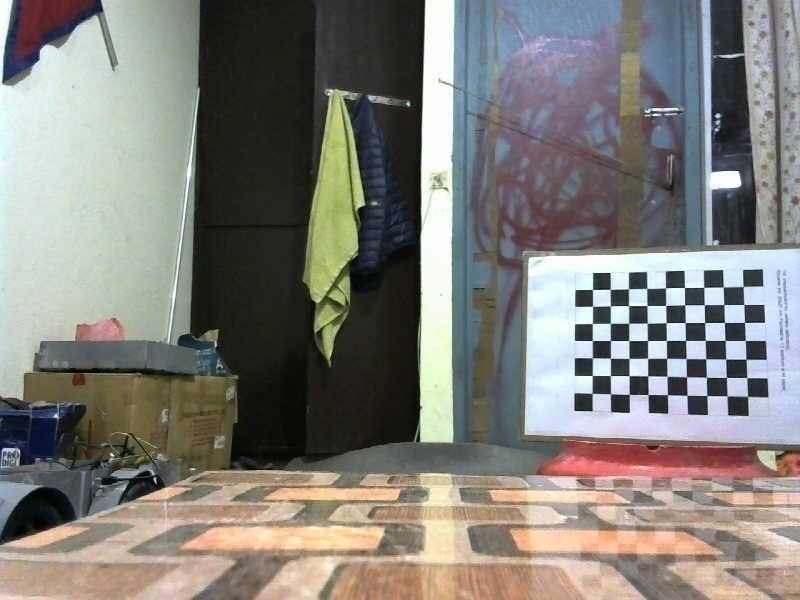block: (527, 256, 797, 443)
